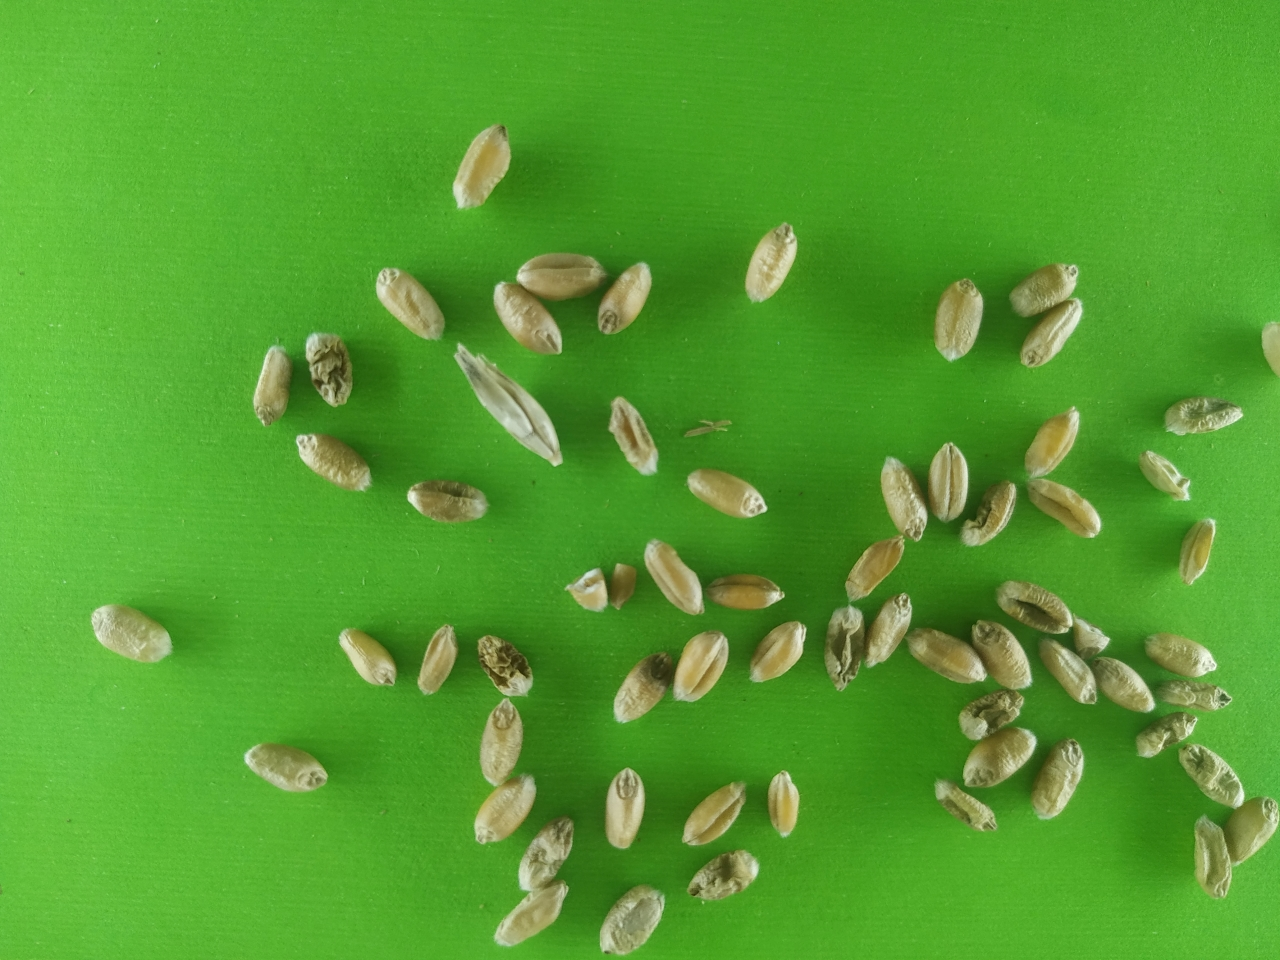bueno: (451, 123, 513, 212), (374, 267, 447, 340), (495, 278, 563, 356), (90, 602, 174, 664), (293, 431, 374, 493), (905, 626, 987, 685), (596, 258, 658, 336), (681, 778, 749, 848), (1024, 479, 1101, 540), (744, 222, 800, 305), (517, 253, 608, 304), (1018, 297, 1083, 368), (971, 618, 1034, 691), (476, 769, 538, 843), (1029, 738, 1083, 822), (962, 725, 1034, 788), (643, 540, 702, 616), (1023, 406, 1081, 480), (1037, 636, 1098, 705), (877, 457, 927, 541), (1010, 259, 1080, 318), (937, 277, 985, 363), (479, 700, 525, 786), (688, 468, 768, 517), (676, 628, 729, 701), (338, 624, 398, 688), (244, 746, 328, 791), (748, 619, 807, 683), (407, 481, 490, 525), (1228, 797, 1279, 868), (925, 441, 968, 524), (1145, 630, 1216, 678), (604, 768, 645, 851), (1096, 656, 1154, 714), (253, 344, 294, 426), (416, 623, 459, 696), (707, 574, 785, 611), (764, 769, 800, 840)
danado: (598, 885, 665, 956), (1178, 745, 1246, 812), (612, 652, 672, 725), (993, 580, 1071, 636), (608, 393, 661, 475), (519, 815, 575, 892), (846, 534, 907, 604), (301, 329, 355, 407), (865, 591, 914, 670), (688, 850, 761, 903), (476, 634, 535, 699), (958, 481, 1016, 547), (824, 604, 867, 691), (933, 775, 998, 832), (1191, 814, 1234, 898), (956, 691, 1024, 740), (1165, 397, 1243, 435), (1140, 444, 1192, 500), (1153, 679, 1235, 713), (1136, 714, 1200, 757)
impureza: (452, 340, 564, 466), (496, 878, 568, 947), (1178, 515, 1217, 586), (683, 416, 736, 445)
partido: (562, 566, 609, 613), (1072, 612, 1113, 657), (611, 563, 637, 610)
